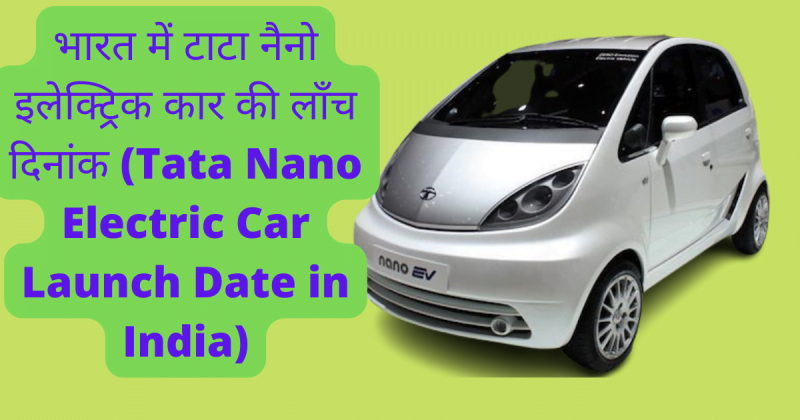Nano: (351, 34, 772, 377)
